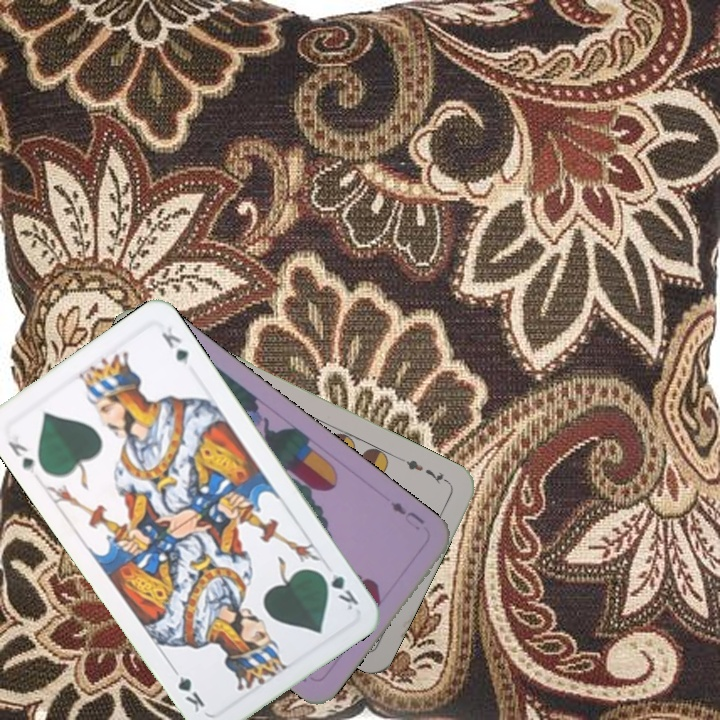E7: (397, 454, 452, 488)
EU: (386, 497, 428, 533)
GK: (315, 566, 362, 613), (3, 436, 37, 476)
